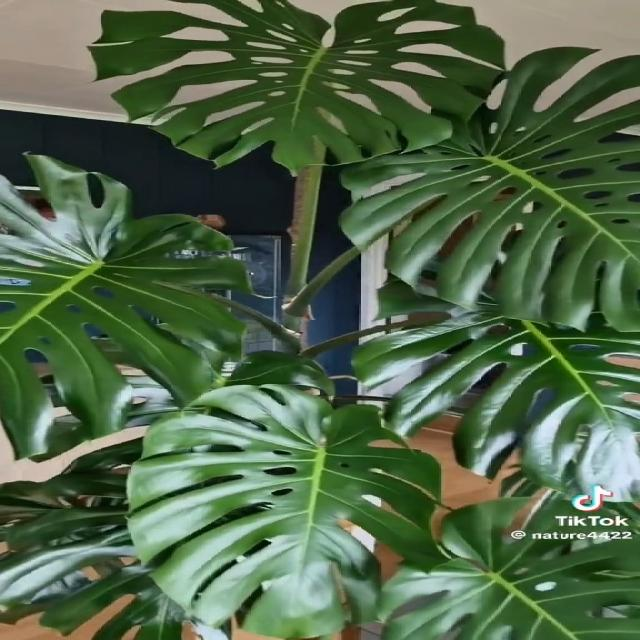roslina_zdrowa: (0, 0, 640, 640)
